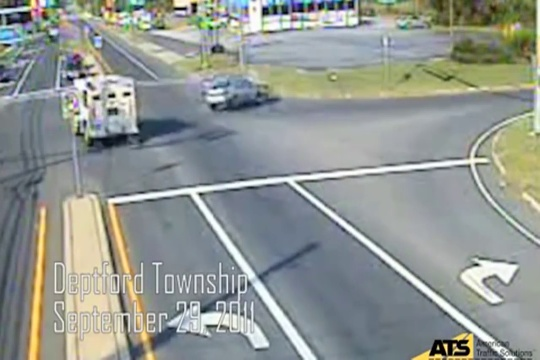car: (69, 80, 145, 147), (199, 74, 281, 106), (396, 16, 428, 33)
